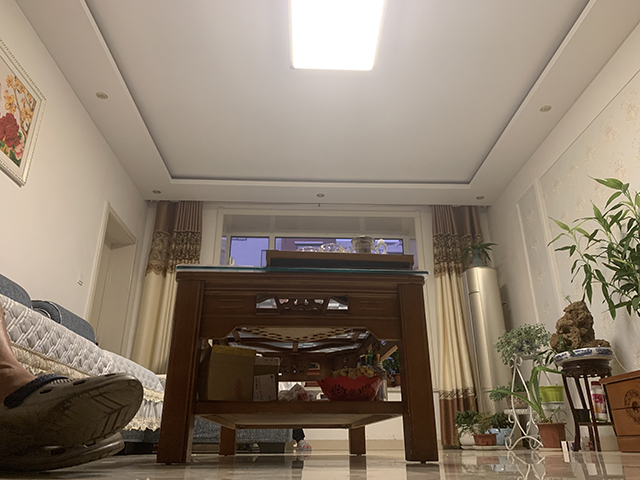curtain: (429, 203, 496, 449), (139, 200, 173, 370)
sofa: (1, 273, 167, 451)
table: (155, 263, 440, 464)
